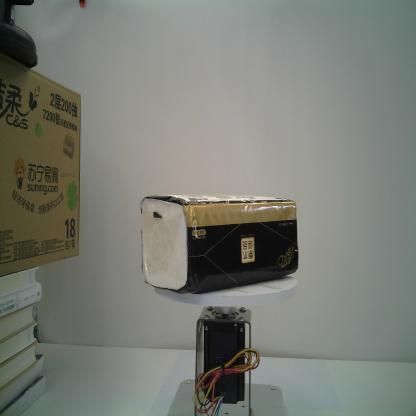Tissue: (138, 193, 299, 295)
